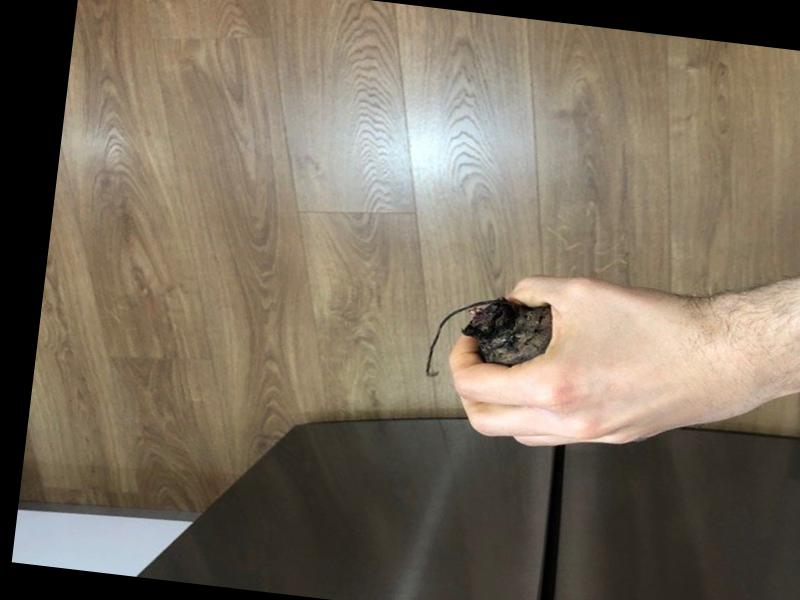Beet: (421, 290, 554, 392)
